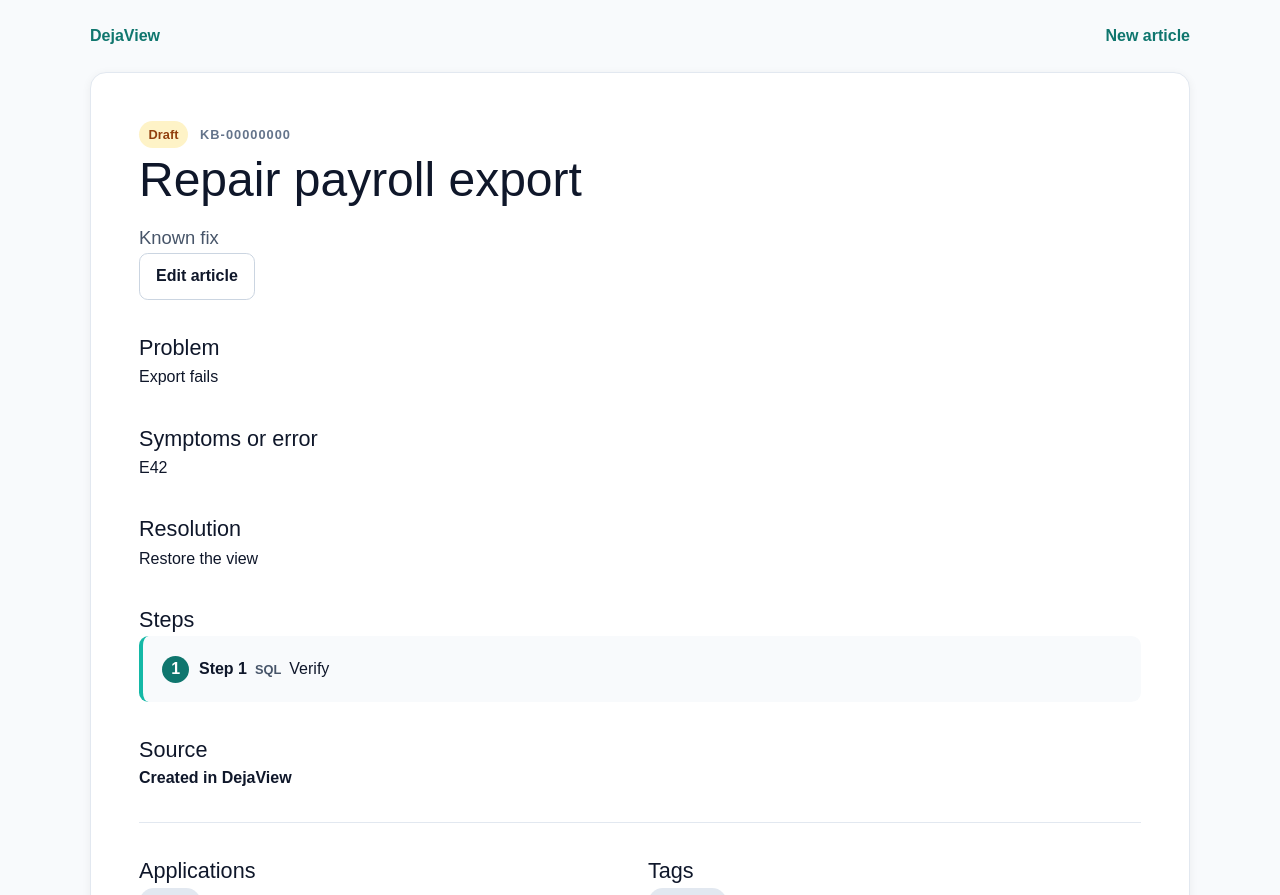
Test case: knowledge authoring UI › renders every step as a collapsed accessible accordion
The image size is (1280, 895).
Expected: the text "SELECT 1;" is not shown
Click the text "Step 1". click: (219, 669)
box: x1=199 y1=660 x2=247 y2=677
(page scrolled)
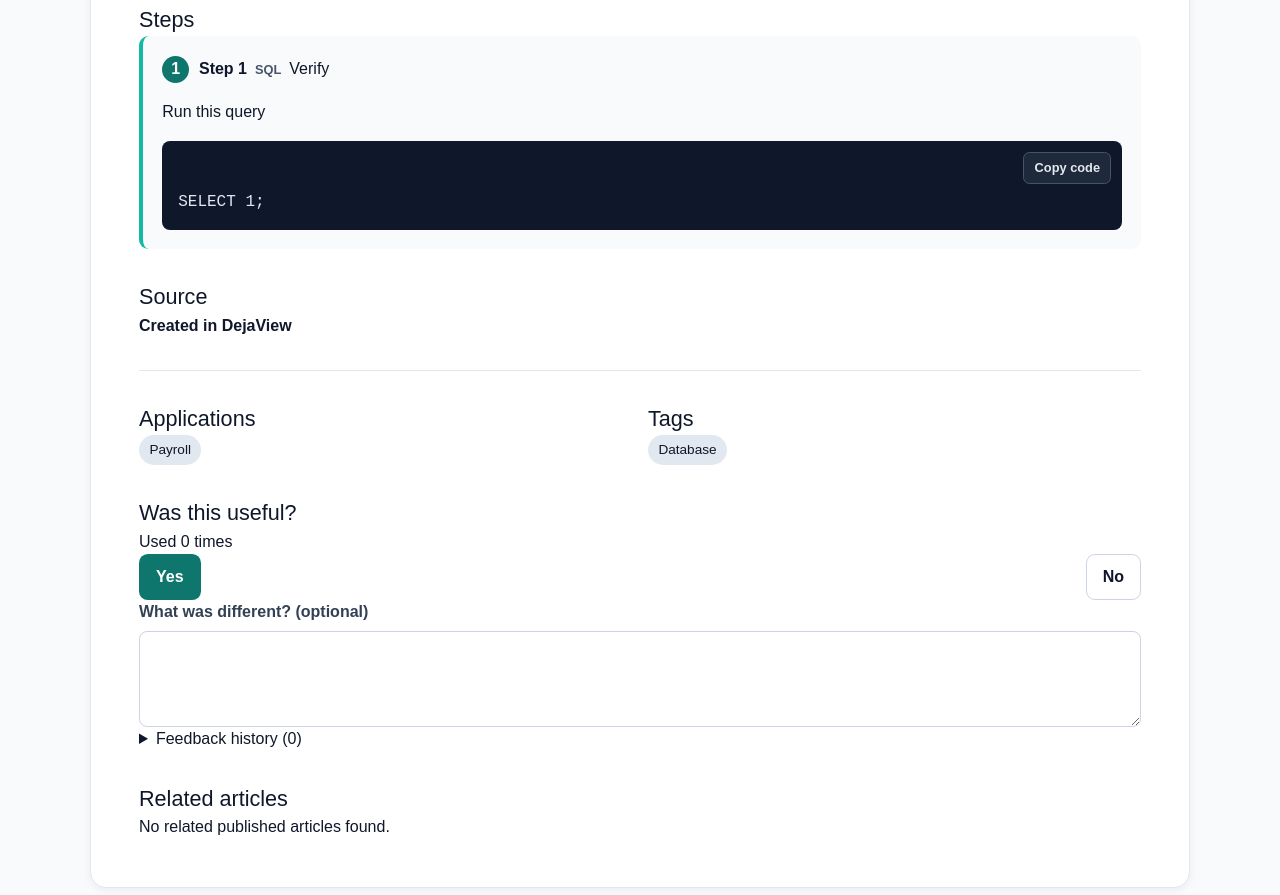
Expected: the text "Payroll" is shown, x1=139 y1=435 x2=201 y2=465
Now the text "SELECT 1;" is shown, box x1=178 y1=193 x2=265 y2=211
